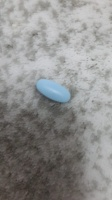Apranax: (35, 77, 72, 104)
